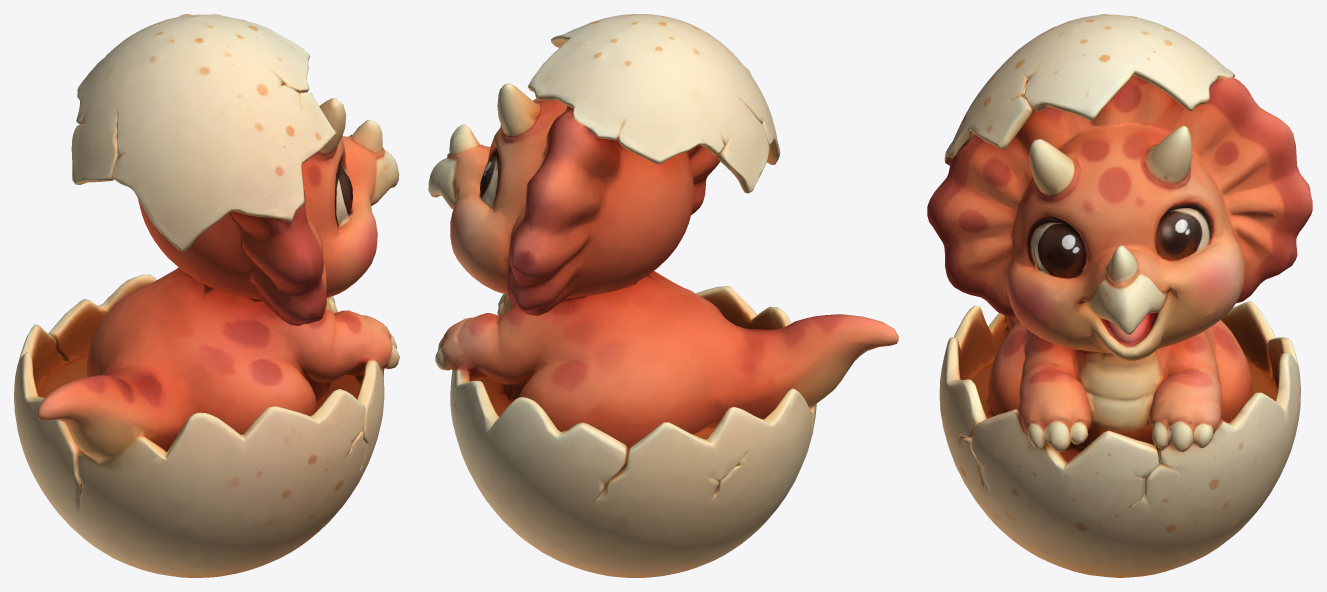
Rendered from baby_3.glb.
3 renders of one model, left to right at view 1: azimuth 30°, elevation 25°; view 2: azimuth 150°, elevation 25°; view 3: azimuth 270°, elevation 25°, orthographic.
Parts seen in each view (by area): view 1: tripo_node_7b1597c1-5c95-442e-83ec-ff6d11fb3cb6; view 2: tripo_node_7b1597c1-5c95-442e-83ec-ff6d11fb3cb6; view 3: tripo_node_7b1597c1-5c95-442e-83ec-ff6d11fb3cb6.
Part boxes in pixels (bbox=[...]): tripo_node_7b1597c1-5c95-442e-83ec-ff6d11fb3cb6: bbox=[14, 14, 399, 577]; tripo_node_7b1597c1-5c95-442e-83ec-ff6d11fb3cb6: bbox=[428, 14, 898, 577]; tripo_node_7b1597c1-5c95-442e-83ec-ff6d11fb3cb6: bbox=[927, 14, 1312, 577].
Bounding box in the file's own units: 0.8229 × 1 × 0.6623.
Materials: 1 (1 with a texture image).
